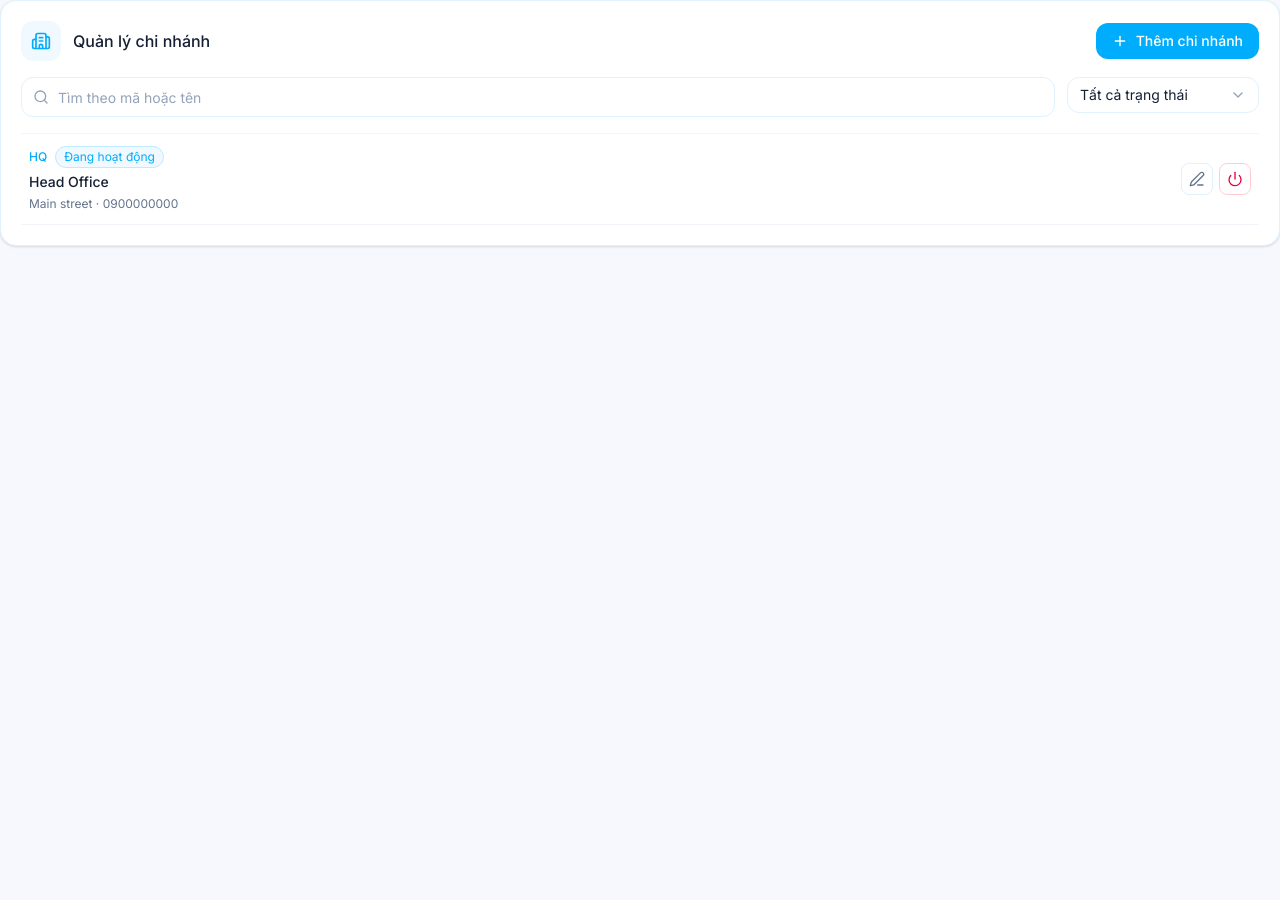
Test case: BranchManagementTab › renders branches and creates a new branch
The width and height of the screenshot is (1280, 900).
Expected: the heading "Head Office" is shown, [29, 173, 109, 190]
Click the button "Thêm chi nhánh" at coordinates (1177, 41), box [1096, 23, 1259, 59]
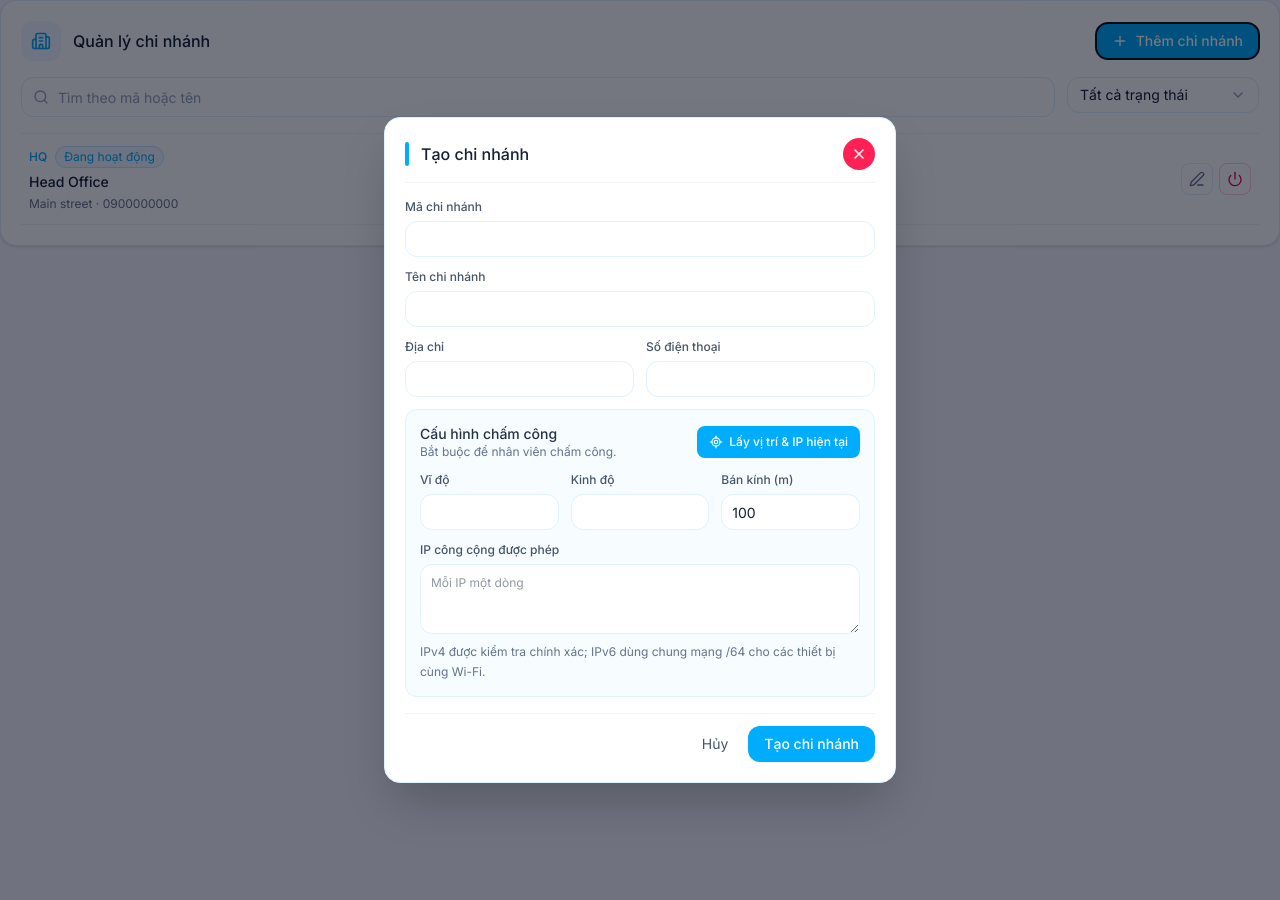
Type "BR2" into the field labelled "Mã chi nhánh" at coordinates (640, 239), box [405, 221, 875, 257]
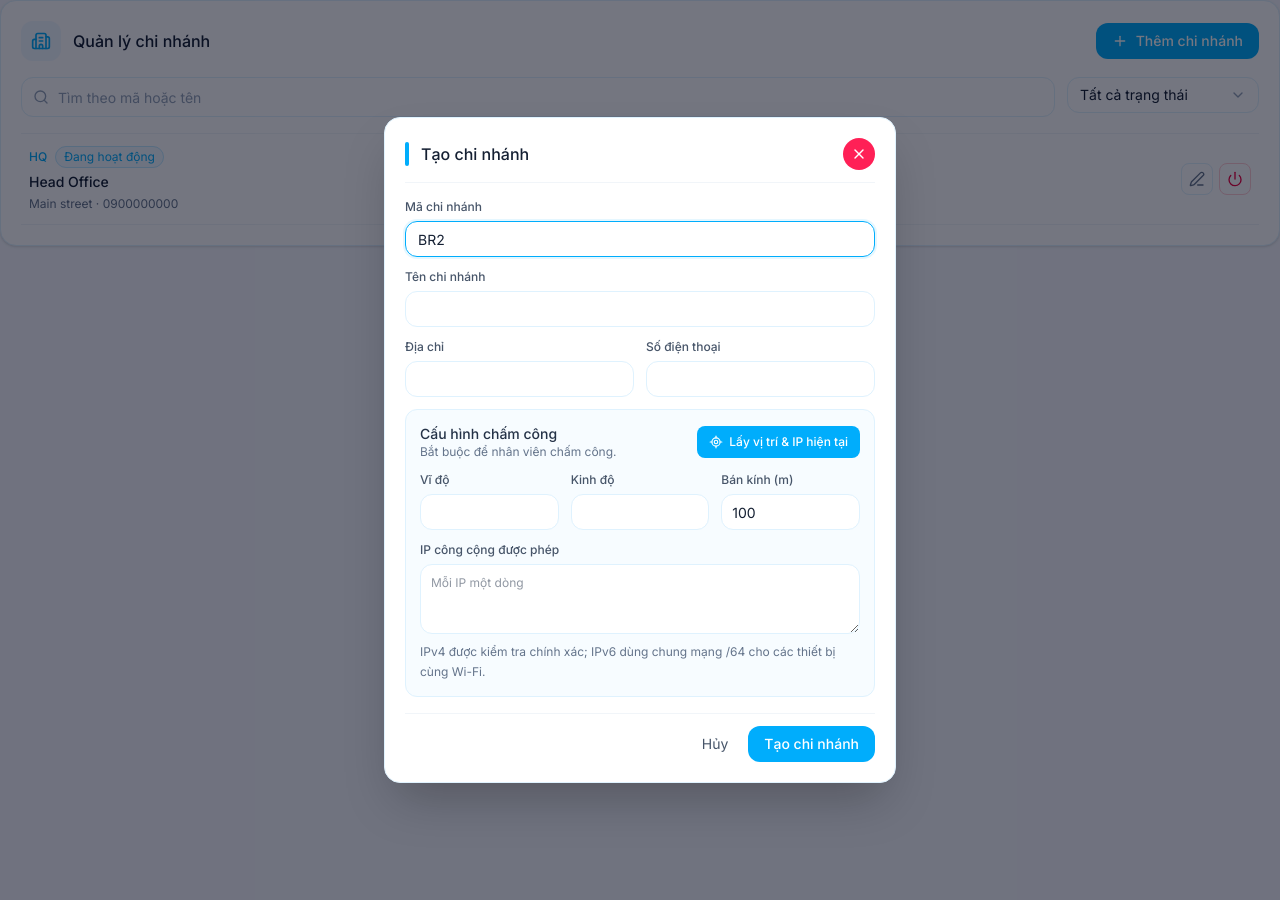
Type "Branch 2" into the field labelled "Tên chi nhánh" at coordinates (640, 309), box [405, 291, 875, 327]
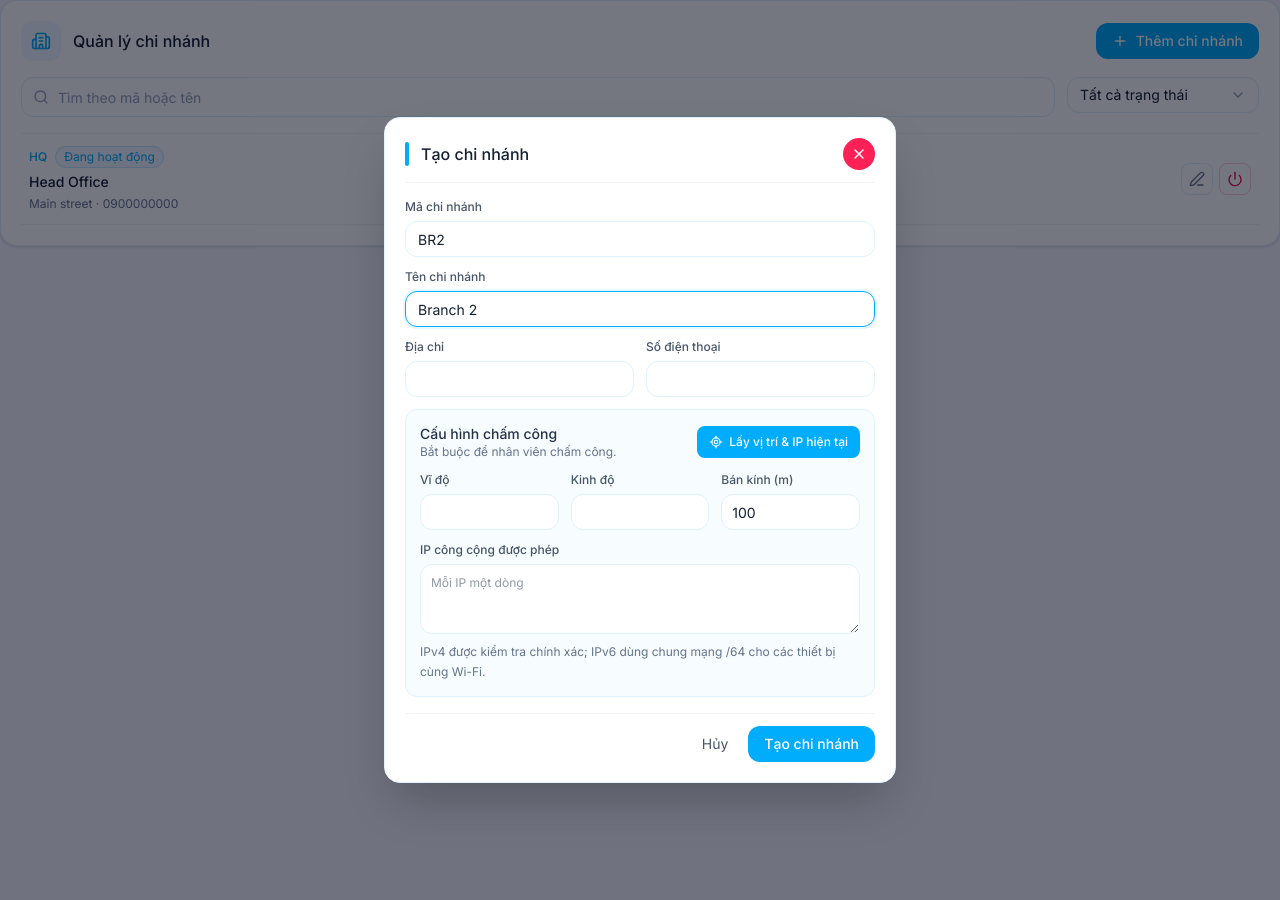
Click the button "Tạo chi nhánh" at coordinates (812, 744), box [748, 726, 875, 762]
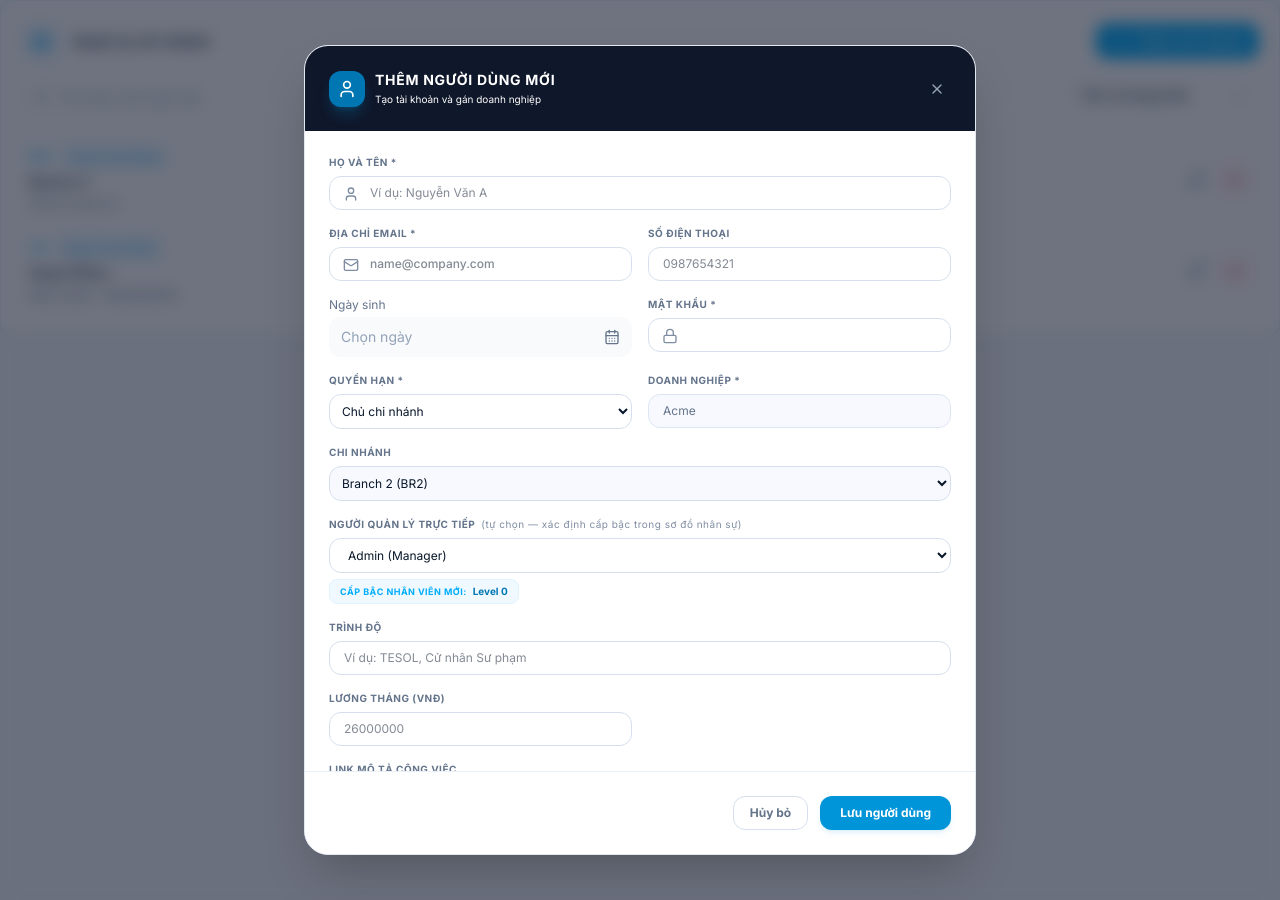
Result: the heading "Thêm người dùng mới" is shown at [375, 70, 555, 90]
Result: the dropdown named "Quyền hạn" shows "Chủ chi nhánh" at [329, 394, 632, 429]
Result: the dropdown named "Chi nhánh" shows "Branch 2 (BR2)" at [329, 466, 951, 501]
